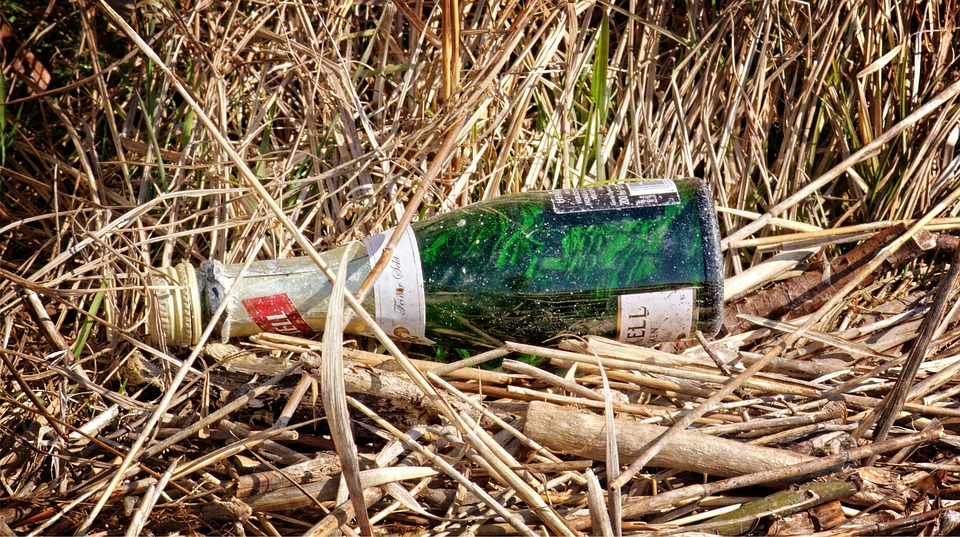glass_bottle: (129, 165, 734, 363)
